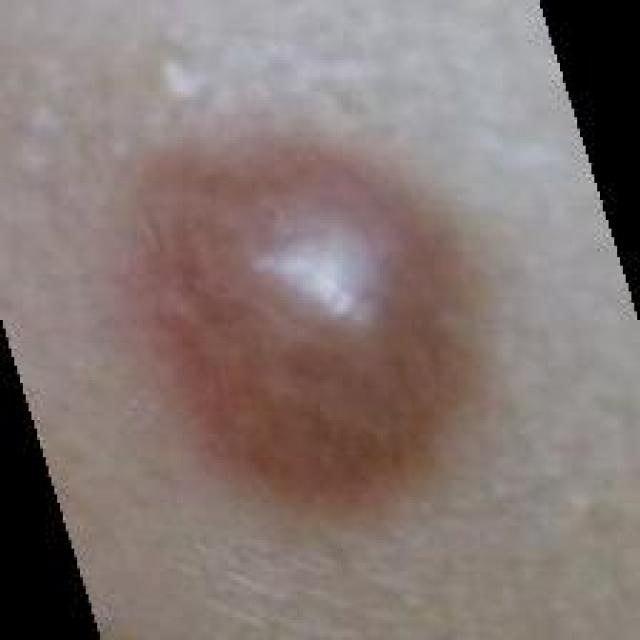monkeypox: (112, 42, 600, 640)
